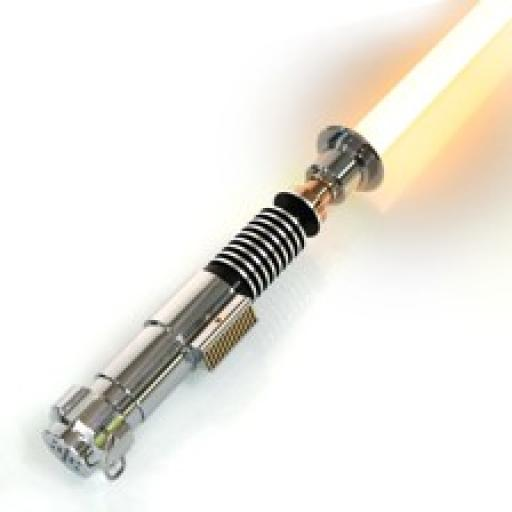lightsaber: (36, 1, 510, 489)
